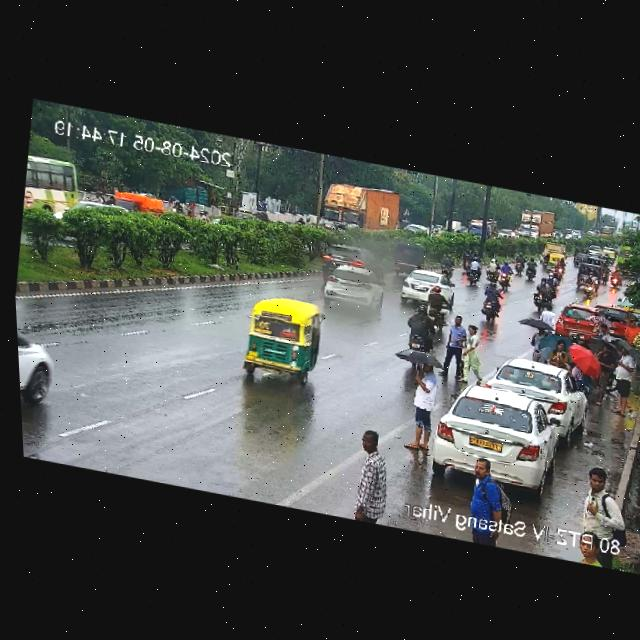bus: (21, 155, 86, 224), (467, 216, 499, 241), (614, 243, 640, 270), (598, 224, 617, 241)
car: (421, 369, 578, 497), (237, 291, 328, 384), (483, 351, 589, 423), (16, 312, 67, 423), (321, 262, 387, 314), (552, 300, 619, 348), (315, 241, 377, 287), (399, 266, 458, 310), (388, 239, 429, 284), (230, 204, 269, 232), (575, 261, 604, 289), (545, 252, 565, 272), (571, 252, 590, 270), (496, 228, 515, 243)
motorcycle: (476, 280, 506, 324), (528, 276, 555, 314), (464, 254, 485, 289), (496, 261, 515, 292), (482, 255, 501, 284), (582, 271, 600, 301), (456, 247, 474, 275), (522, 258, 539, 282), (549, 266, 565, 289), (608, 266, 624, 289), (600, 263, 613, 286)
person: (569, 463, 636, 572), (450, 454, 521, 550), (346, 425, 400, 526), (402, 357, 448, 454), (605, 343, 640, 422), (435, 314, 474, 383), (454, 322, 492, 388), (587, 344, 617, 409), (402, 304, 439, 353), (527, 318, 558, 364), (567, 357, 596, 401), (547, 339, 573, 372)
truck: (316, 178, 406, 242), (515, 205, 558, 247), (538, 240, 568, 266)
